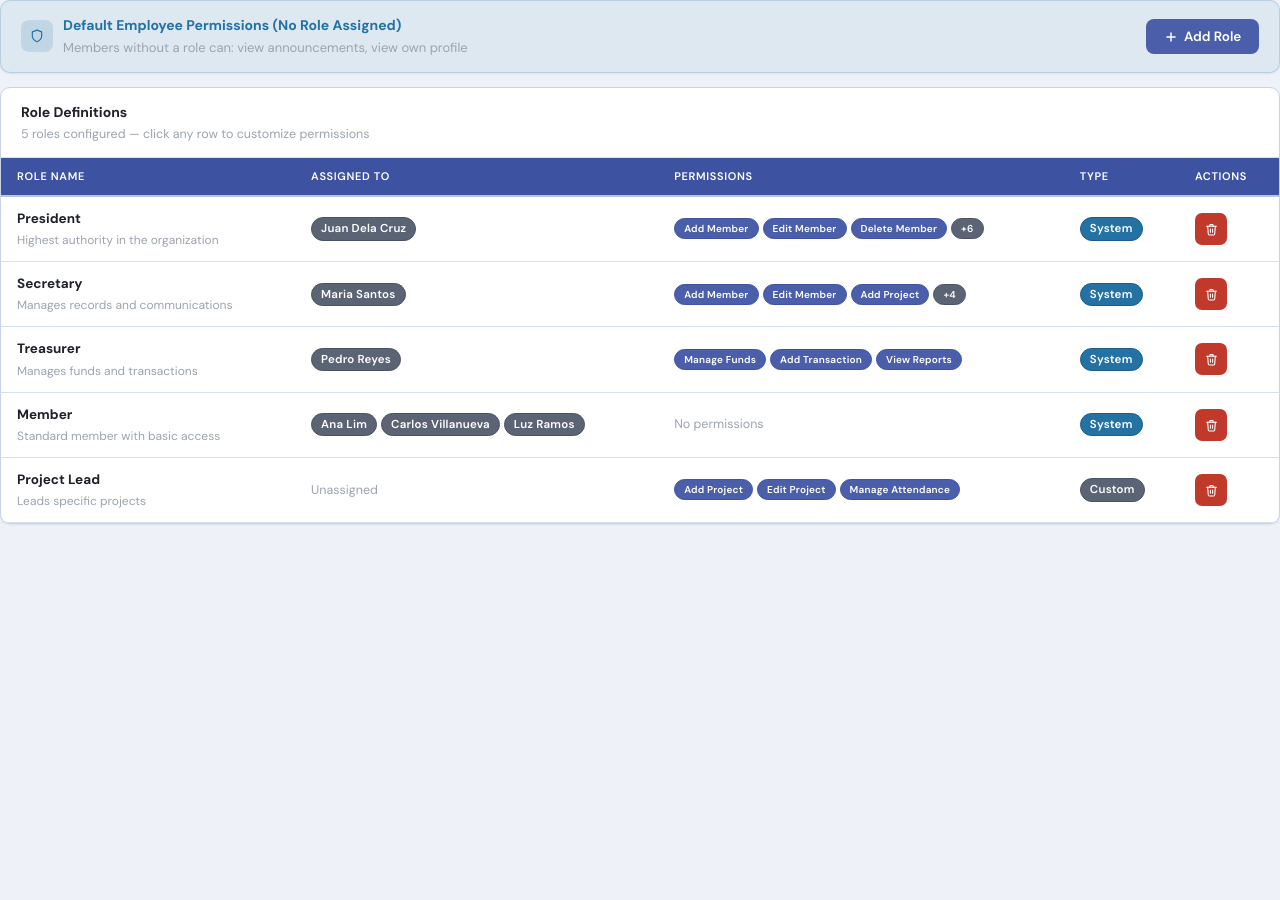
Scenario: edit/save flows › Roles: creating a role adds it to the table, and it can be deleted again
Click the button "Add Role" at [1202, 36], box [1146, 19, 1259, 54]
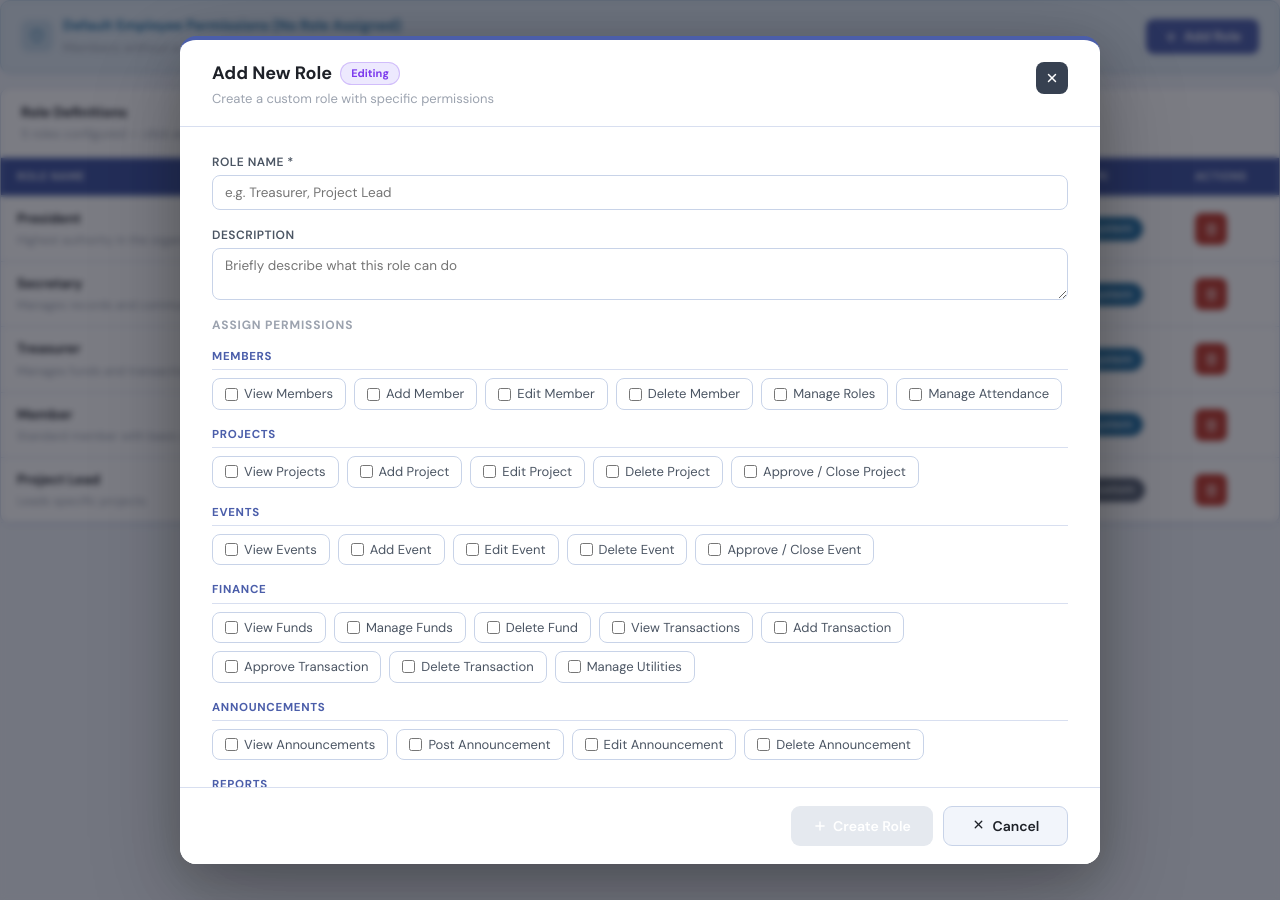
Type "Treasurer Aide" into the field with placeholder "e.g. Treasurer, Project Lead" at [640, 192], box [212, 175, 1068, 210]
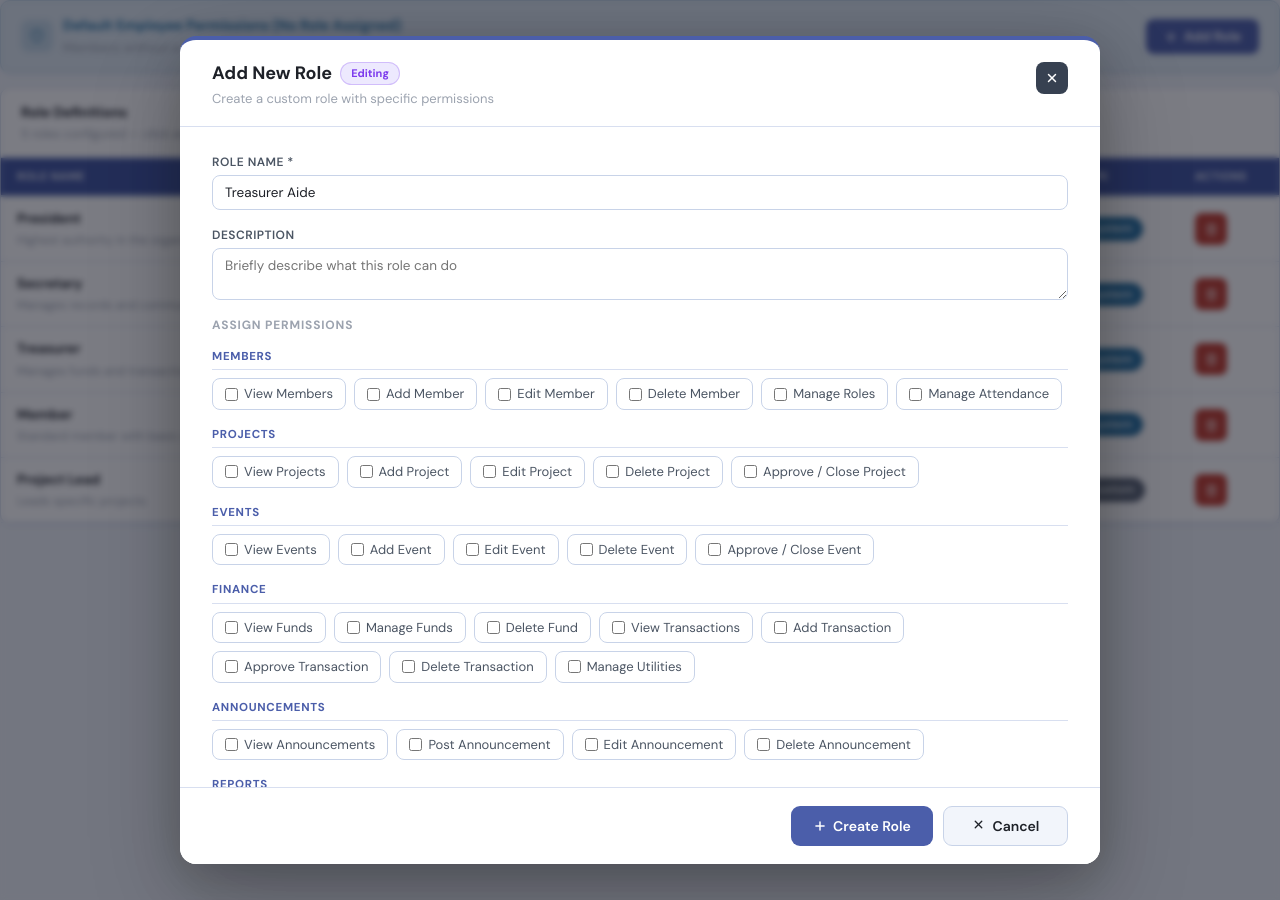
Click the button "Create Role" at [862, 826], box [791, 806, 933, 846]
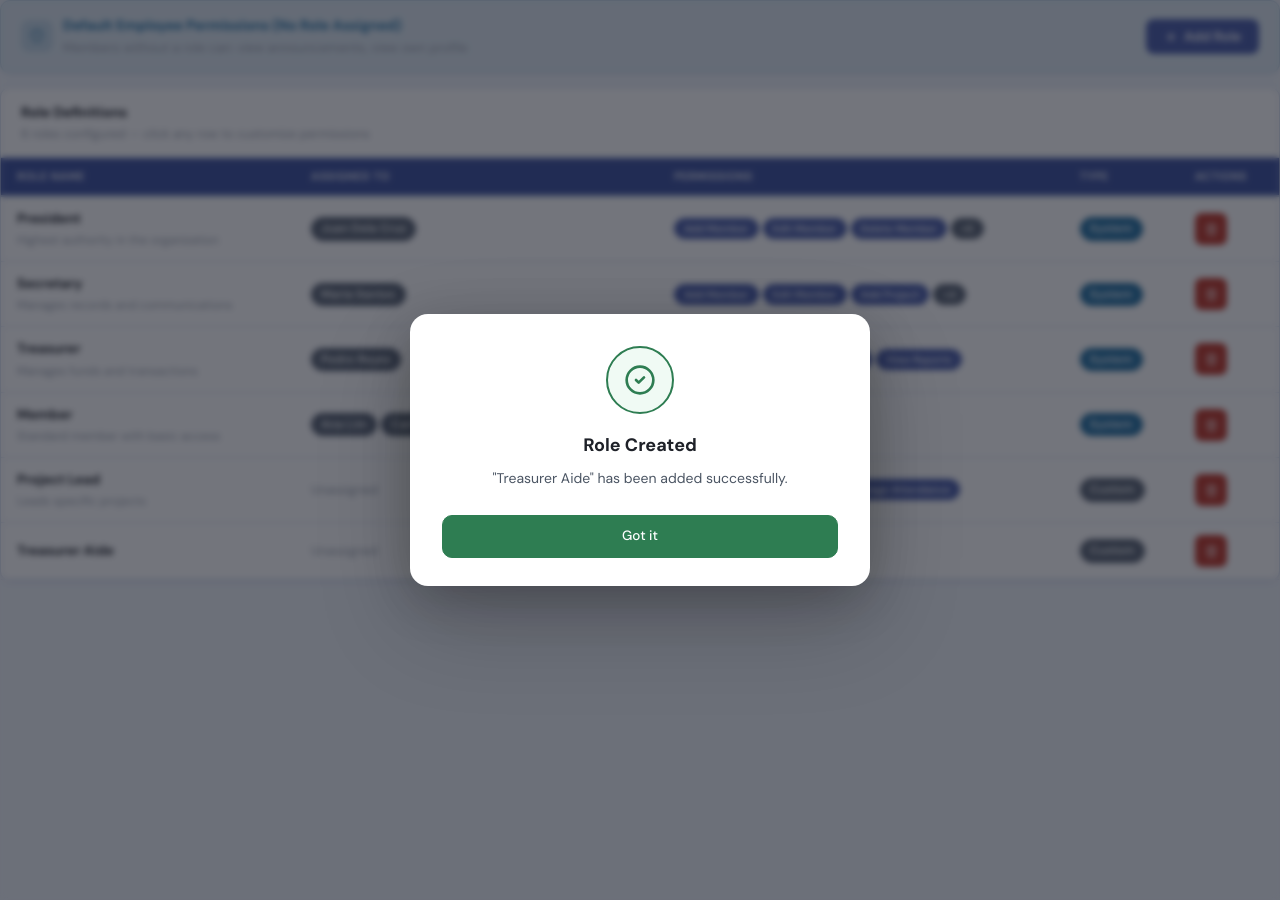
Result: the text "\"Treasurer Aide\" has been added successfully." is shown at [470, 467, 810, 491]
Result: the table shows "Treasurer Aide" at [17, 542, 114, 559]
Click the button at [640, 536], box [442, 515, 838, 558]
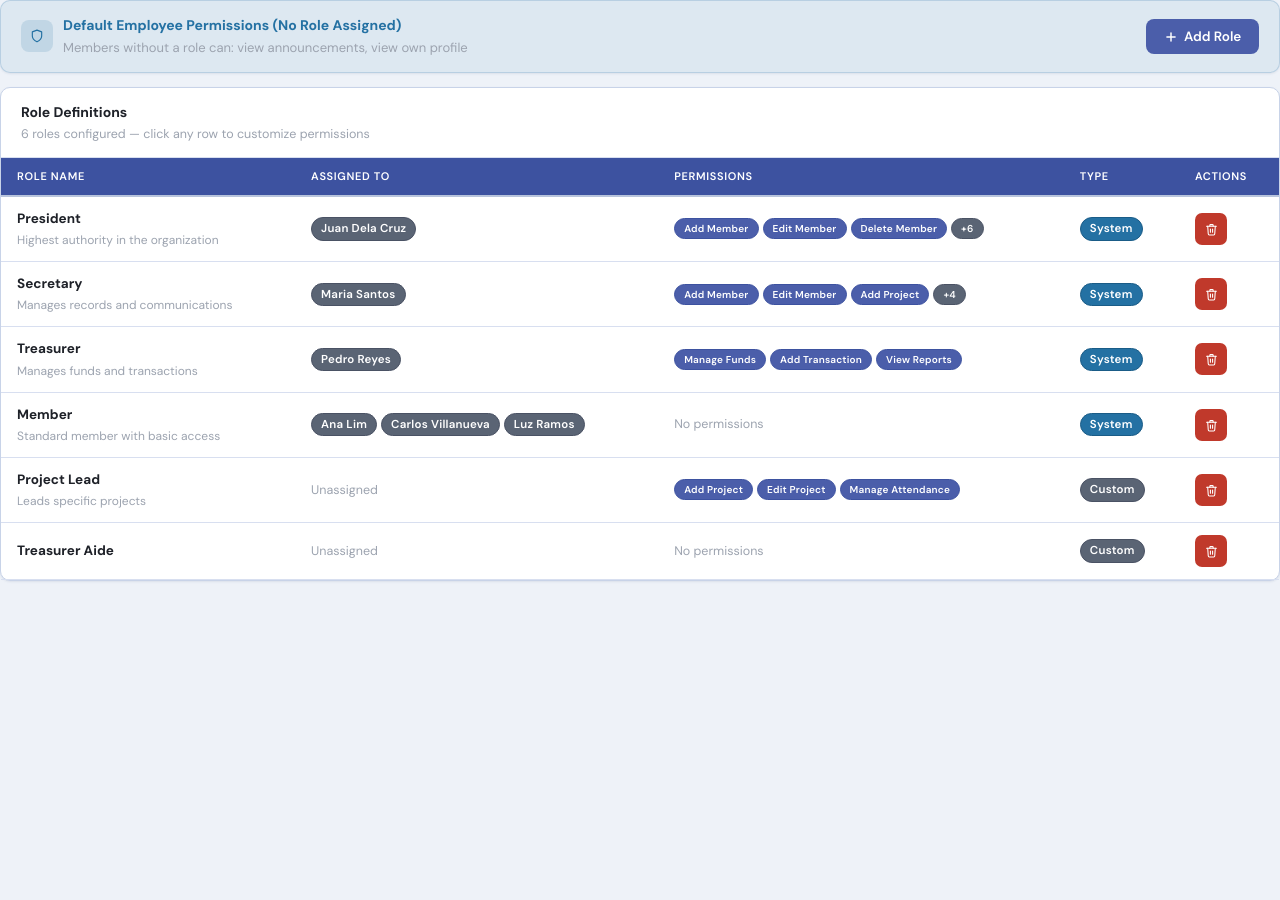
Click the button named "Delete role" in the row of "Treasurer Aide" at [1211, 551], box [1195, 535, 1227, 567]
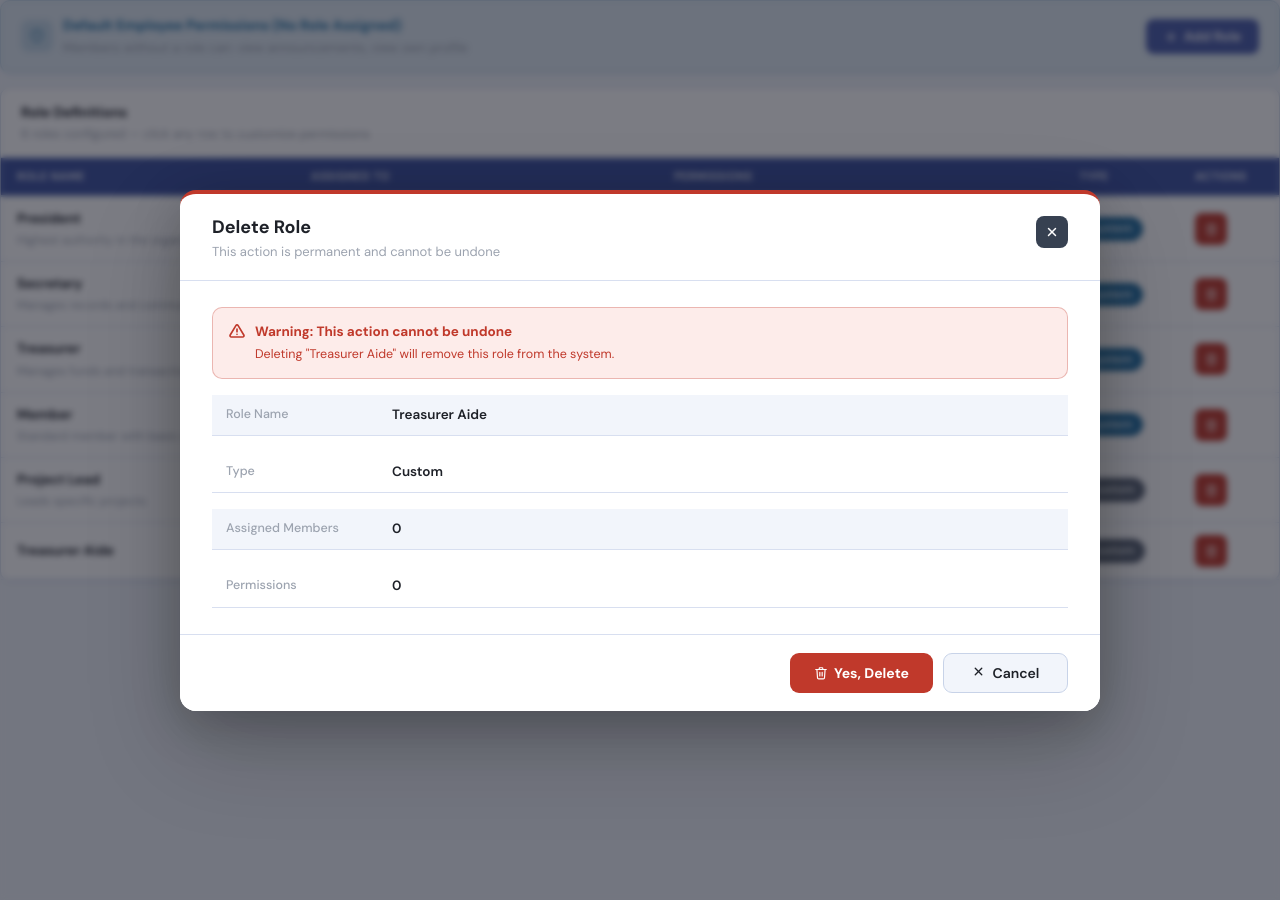
Click the button "Yes, Delete" at [861, 672], box [790, 652, 933, 692]
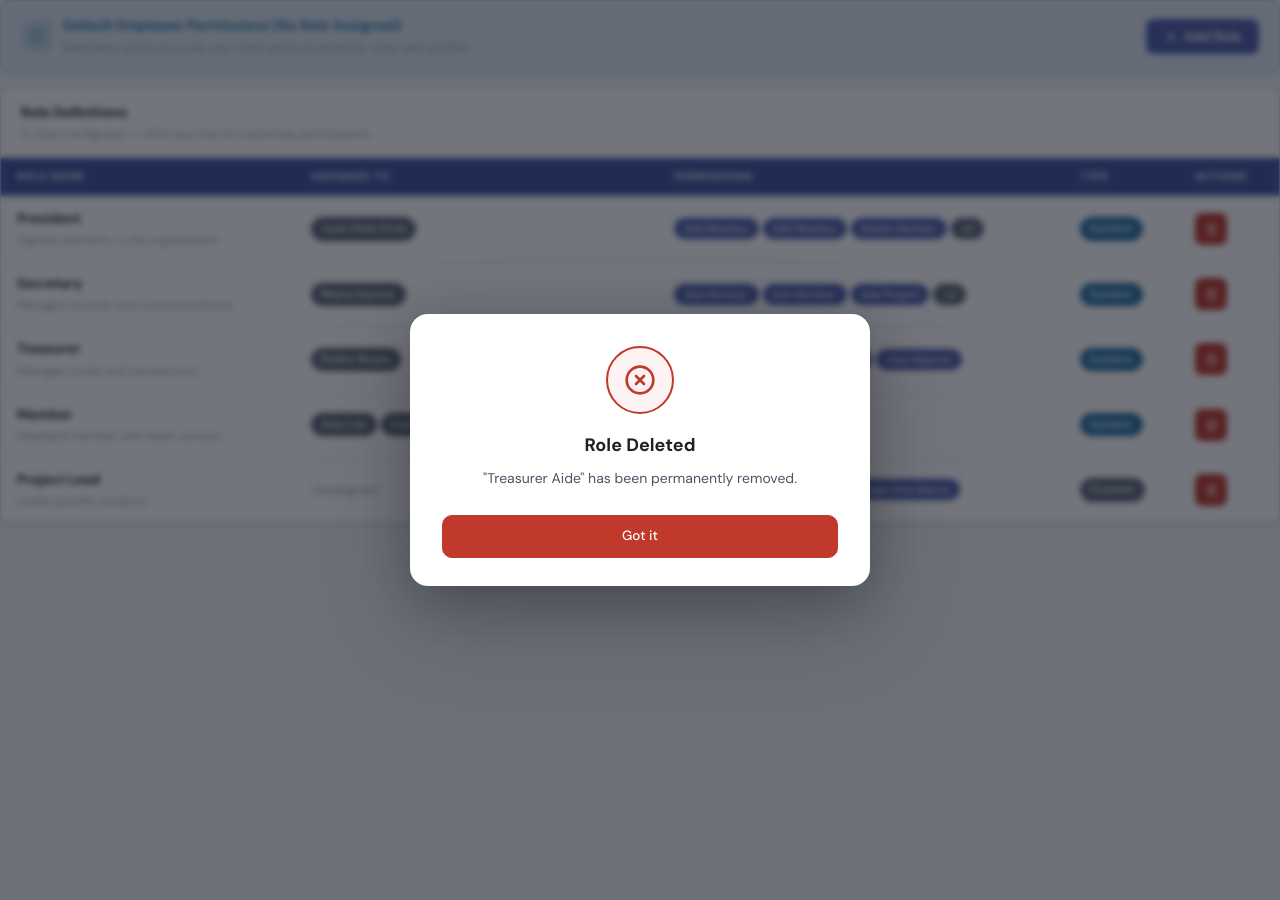
Result: the text "Treasurer Aide" is gone
Result: the text "\"Treasurer Aide\" has been permanently removed." is shown at [470, 467, 810, 491]
